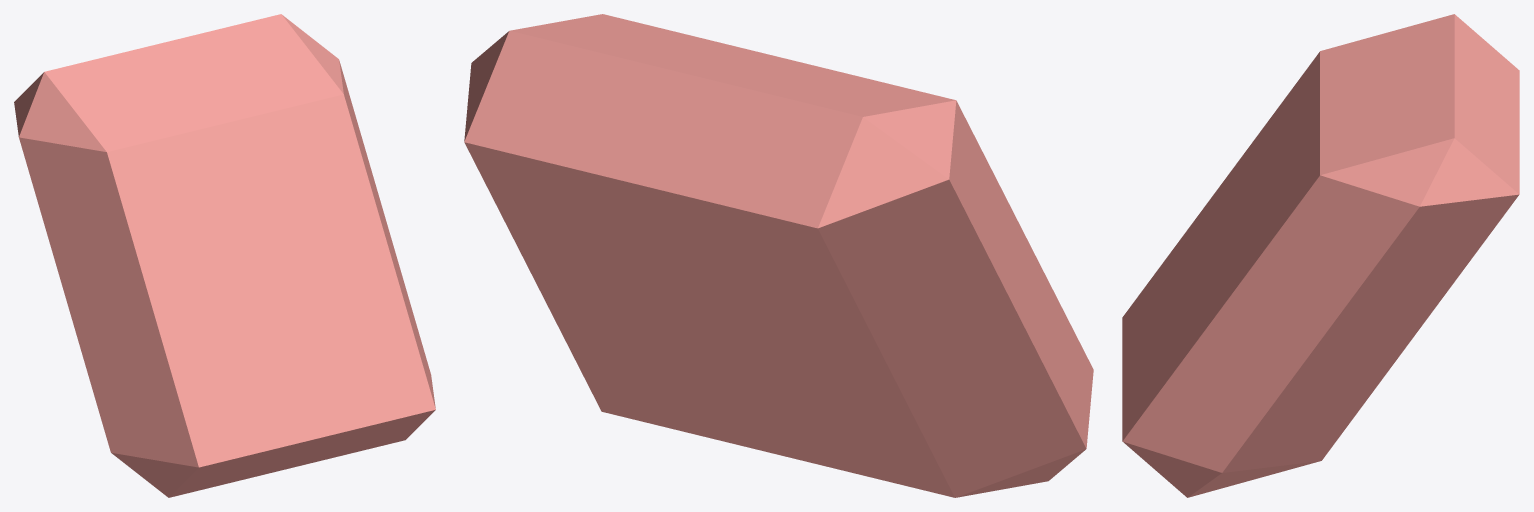
Rendered from kn-pillow.glb.
3 views of the same model, side by side, from view 1: azimuth 30°, elevation 25°; view 2: azimuth 150°, elevation 25°; view 3: azimuth 270°, elevation 25° (orthographic). The views are drawn at different scales.
Visible parts, largest first — view 1: pillow(Clone); view 2: pillow(Clone); view 3: pillow(Clone).
Part boxes in pixels (x1,y1,x2,y2): pillow(Clone): (14,14,435,497); pillow(Clone): (464,14,1093,497); pillow(Clone): (1122,14,1519,497).
Size of the model in its own units: 1 by 1 by 1.
